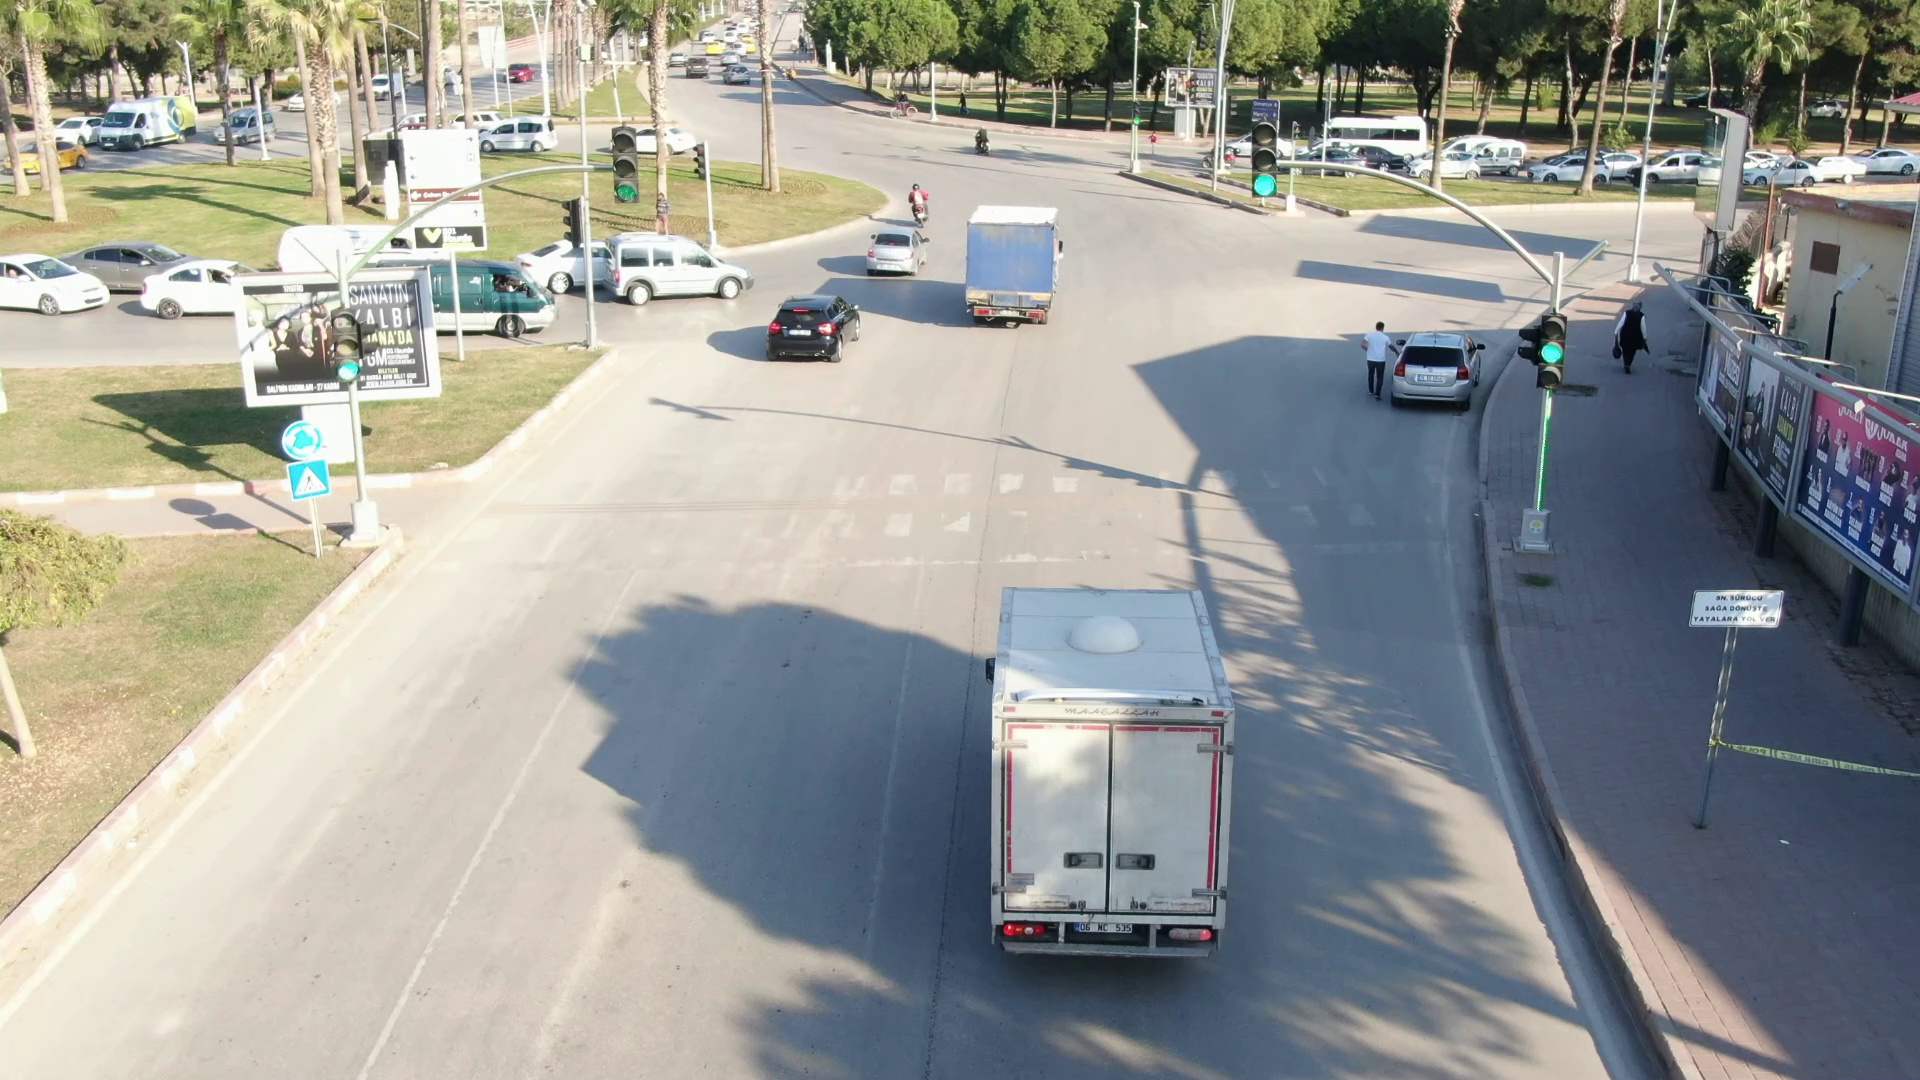car: (931, 561, 1313, 988), (948, 199, 1075, 333), (598, 223, 762, 313), (750, 281, 867, 371), (1389, 324, 1494, 419), (472, 107, 565, 159), (859, 224, 930, 276), (1522, 151, 1614, 189)
person: (1607, 291, 1652, 379), (1360, 318, 1393, 402)
